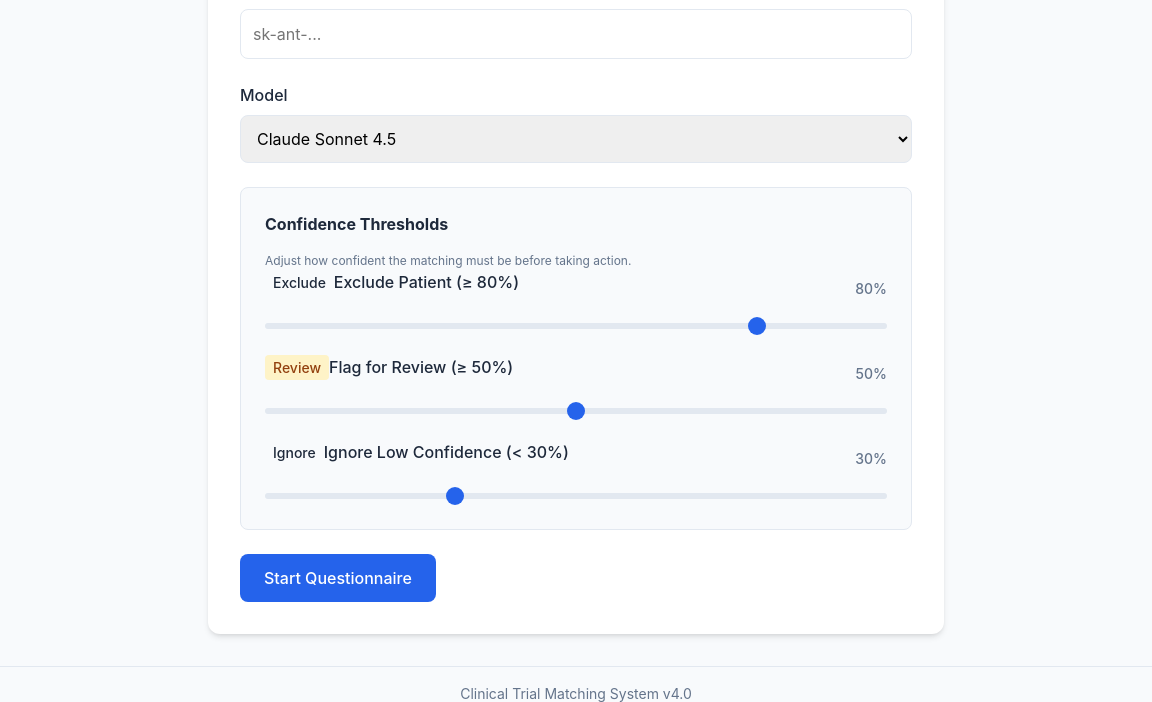
Scenario: App Component › Settings Panel › should show error when submitting without API key
(page scrolled)
Click the button "Start Questionnaire". click: (338, 578)
box: [240,554,436,602]
(page scrolled)
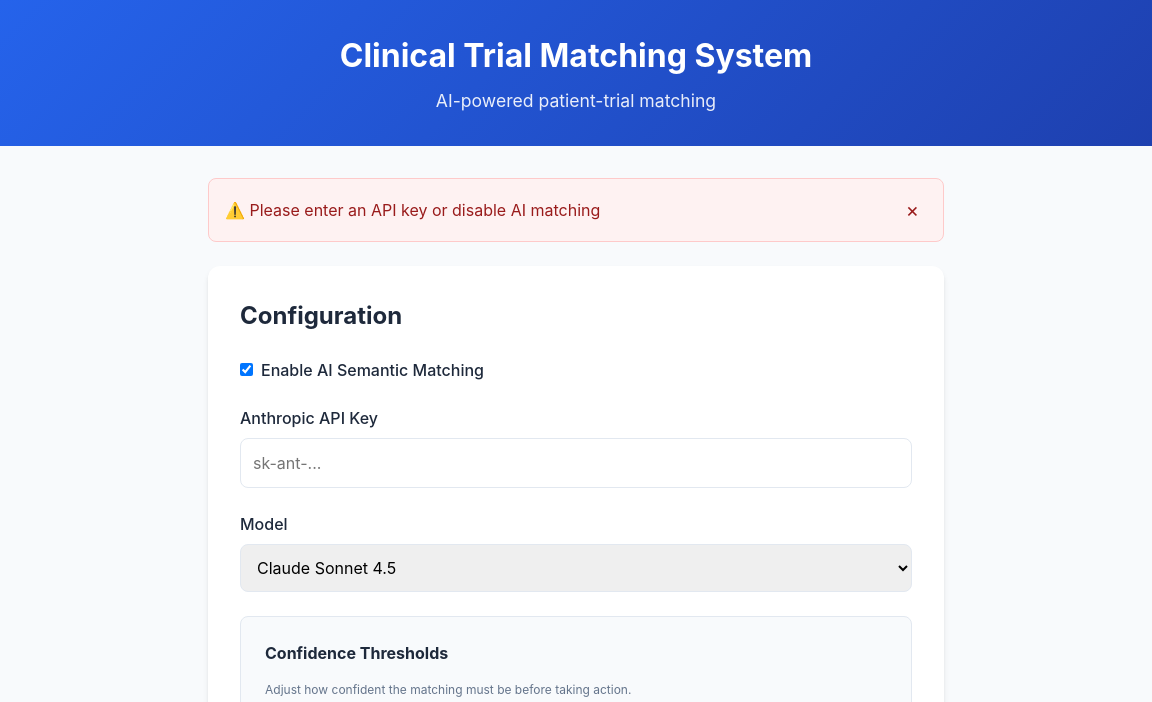
Now the message shows "Please enter an API key", box [250,200,600,220]
